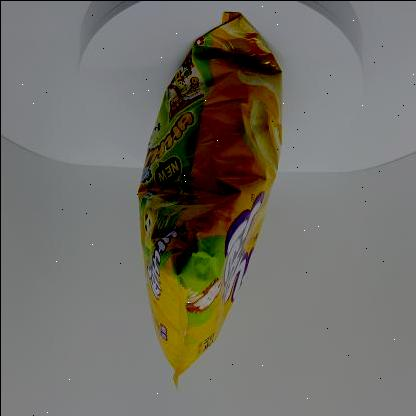Others: (131, 6, 289, 394)
